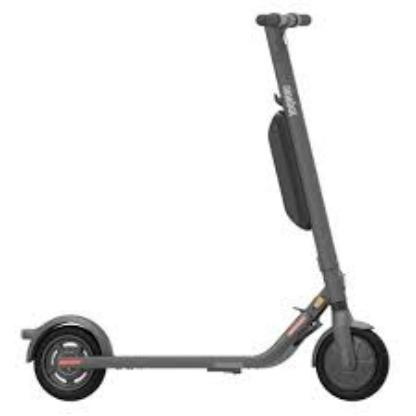bike: (11, 7, 392, 405)
